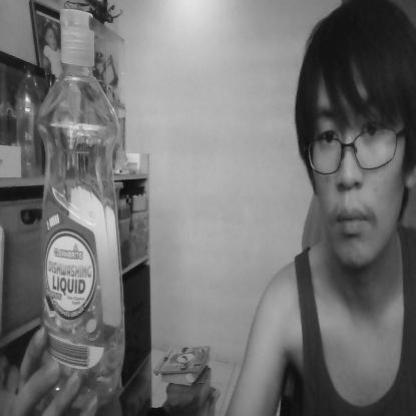Plastic Bottle: (32, 8, 126, 412)
